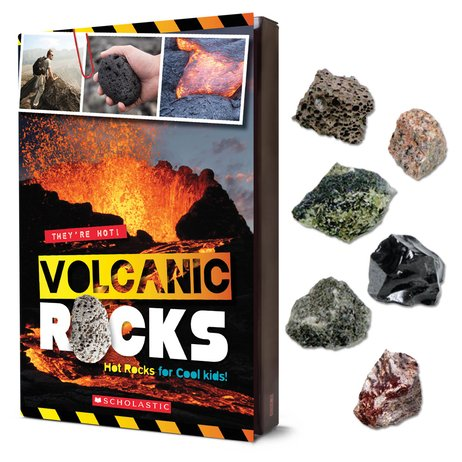volcanic_rock: (289, 59, 376, 157)
